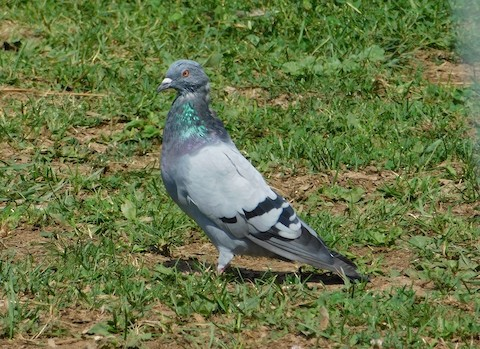pigeon: (152, 58, 372, 288)
